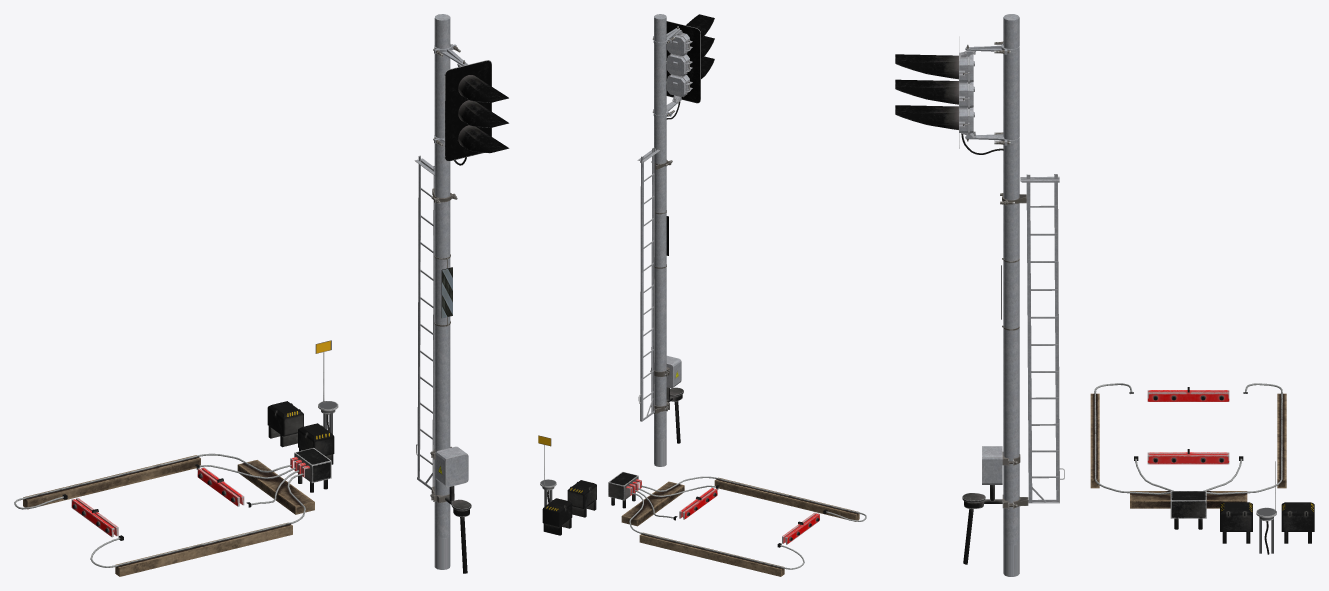
The model's file is RM_sig_P_MM1_YGR_3_T_line.gltf.
The picture shows the model from 3 angles, left to right: view 1: azimuth 30°, elevation 25°; view 2: azimuth 150°, elevation 25°; view 3: azimuth 270°, elevation 25°; orthographic projection. The views are drawn at different scales.
Visible parts, largest first — view 1: Светофор 3, Изостык; view 2: Светофор 3, Изостык; view 3: Светофор 3, Изостык.
Part boxes in pixels (box(x1,y1,x2,y2)): Светофор 3: box(414, 14, 509, 573); Изостык: box(14, 340, 338, 576); Светофор 3: box(637, 14, 714, 466); Изостык: box(538, 435, 866, 576); Светофор 3: box(895, 14, 1064, 576); Изостык: box(1090, 383, 1314, 554).
Bounding box in the file's own units: 4.1 × 6.66 × 4.55.
Materials: 2 (2 with a texture image).
